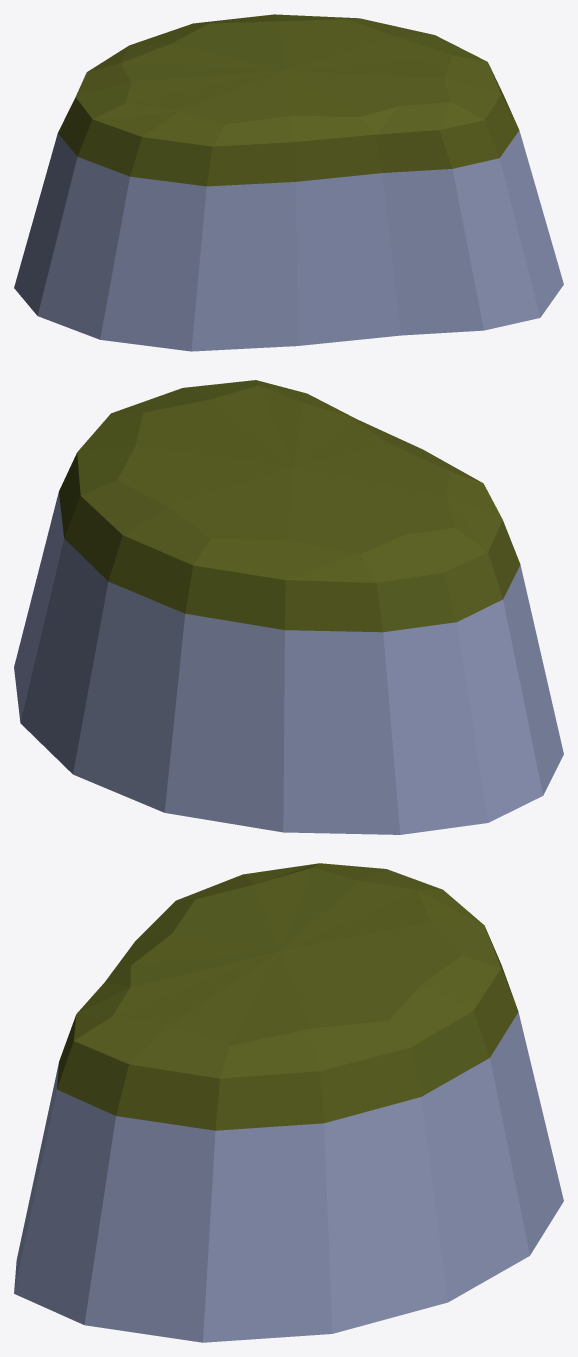
The model's file is Island_1.fbx.
3 renders of one model, top to bottom at view 1: azimuth 30°, elevation 25°; view 2: azimuth 150°, elevation 25°; view 3: azimuth 270°, elevation 25°, orthographic. The views are drawn at different scales.
Parts seen in each view (by area): view 1: Island_1; view 2: Island_1; view 3: Island_1.
Boxes of the visible parts, x1,y1,x2,y2 form: Island_1: (14, 14, 563, 351); Island_1: (14, 380, 563, 834); Island_1: (14, 863, 563, 1342).
Bounding box in the file's own units: 18.77 × 8.04 × 15.77.
